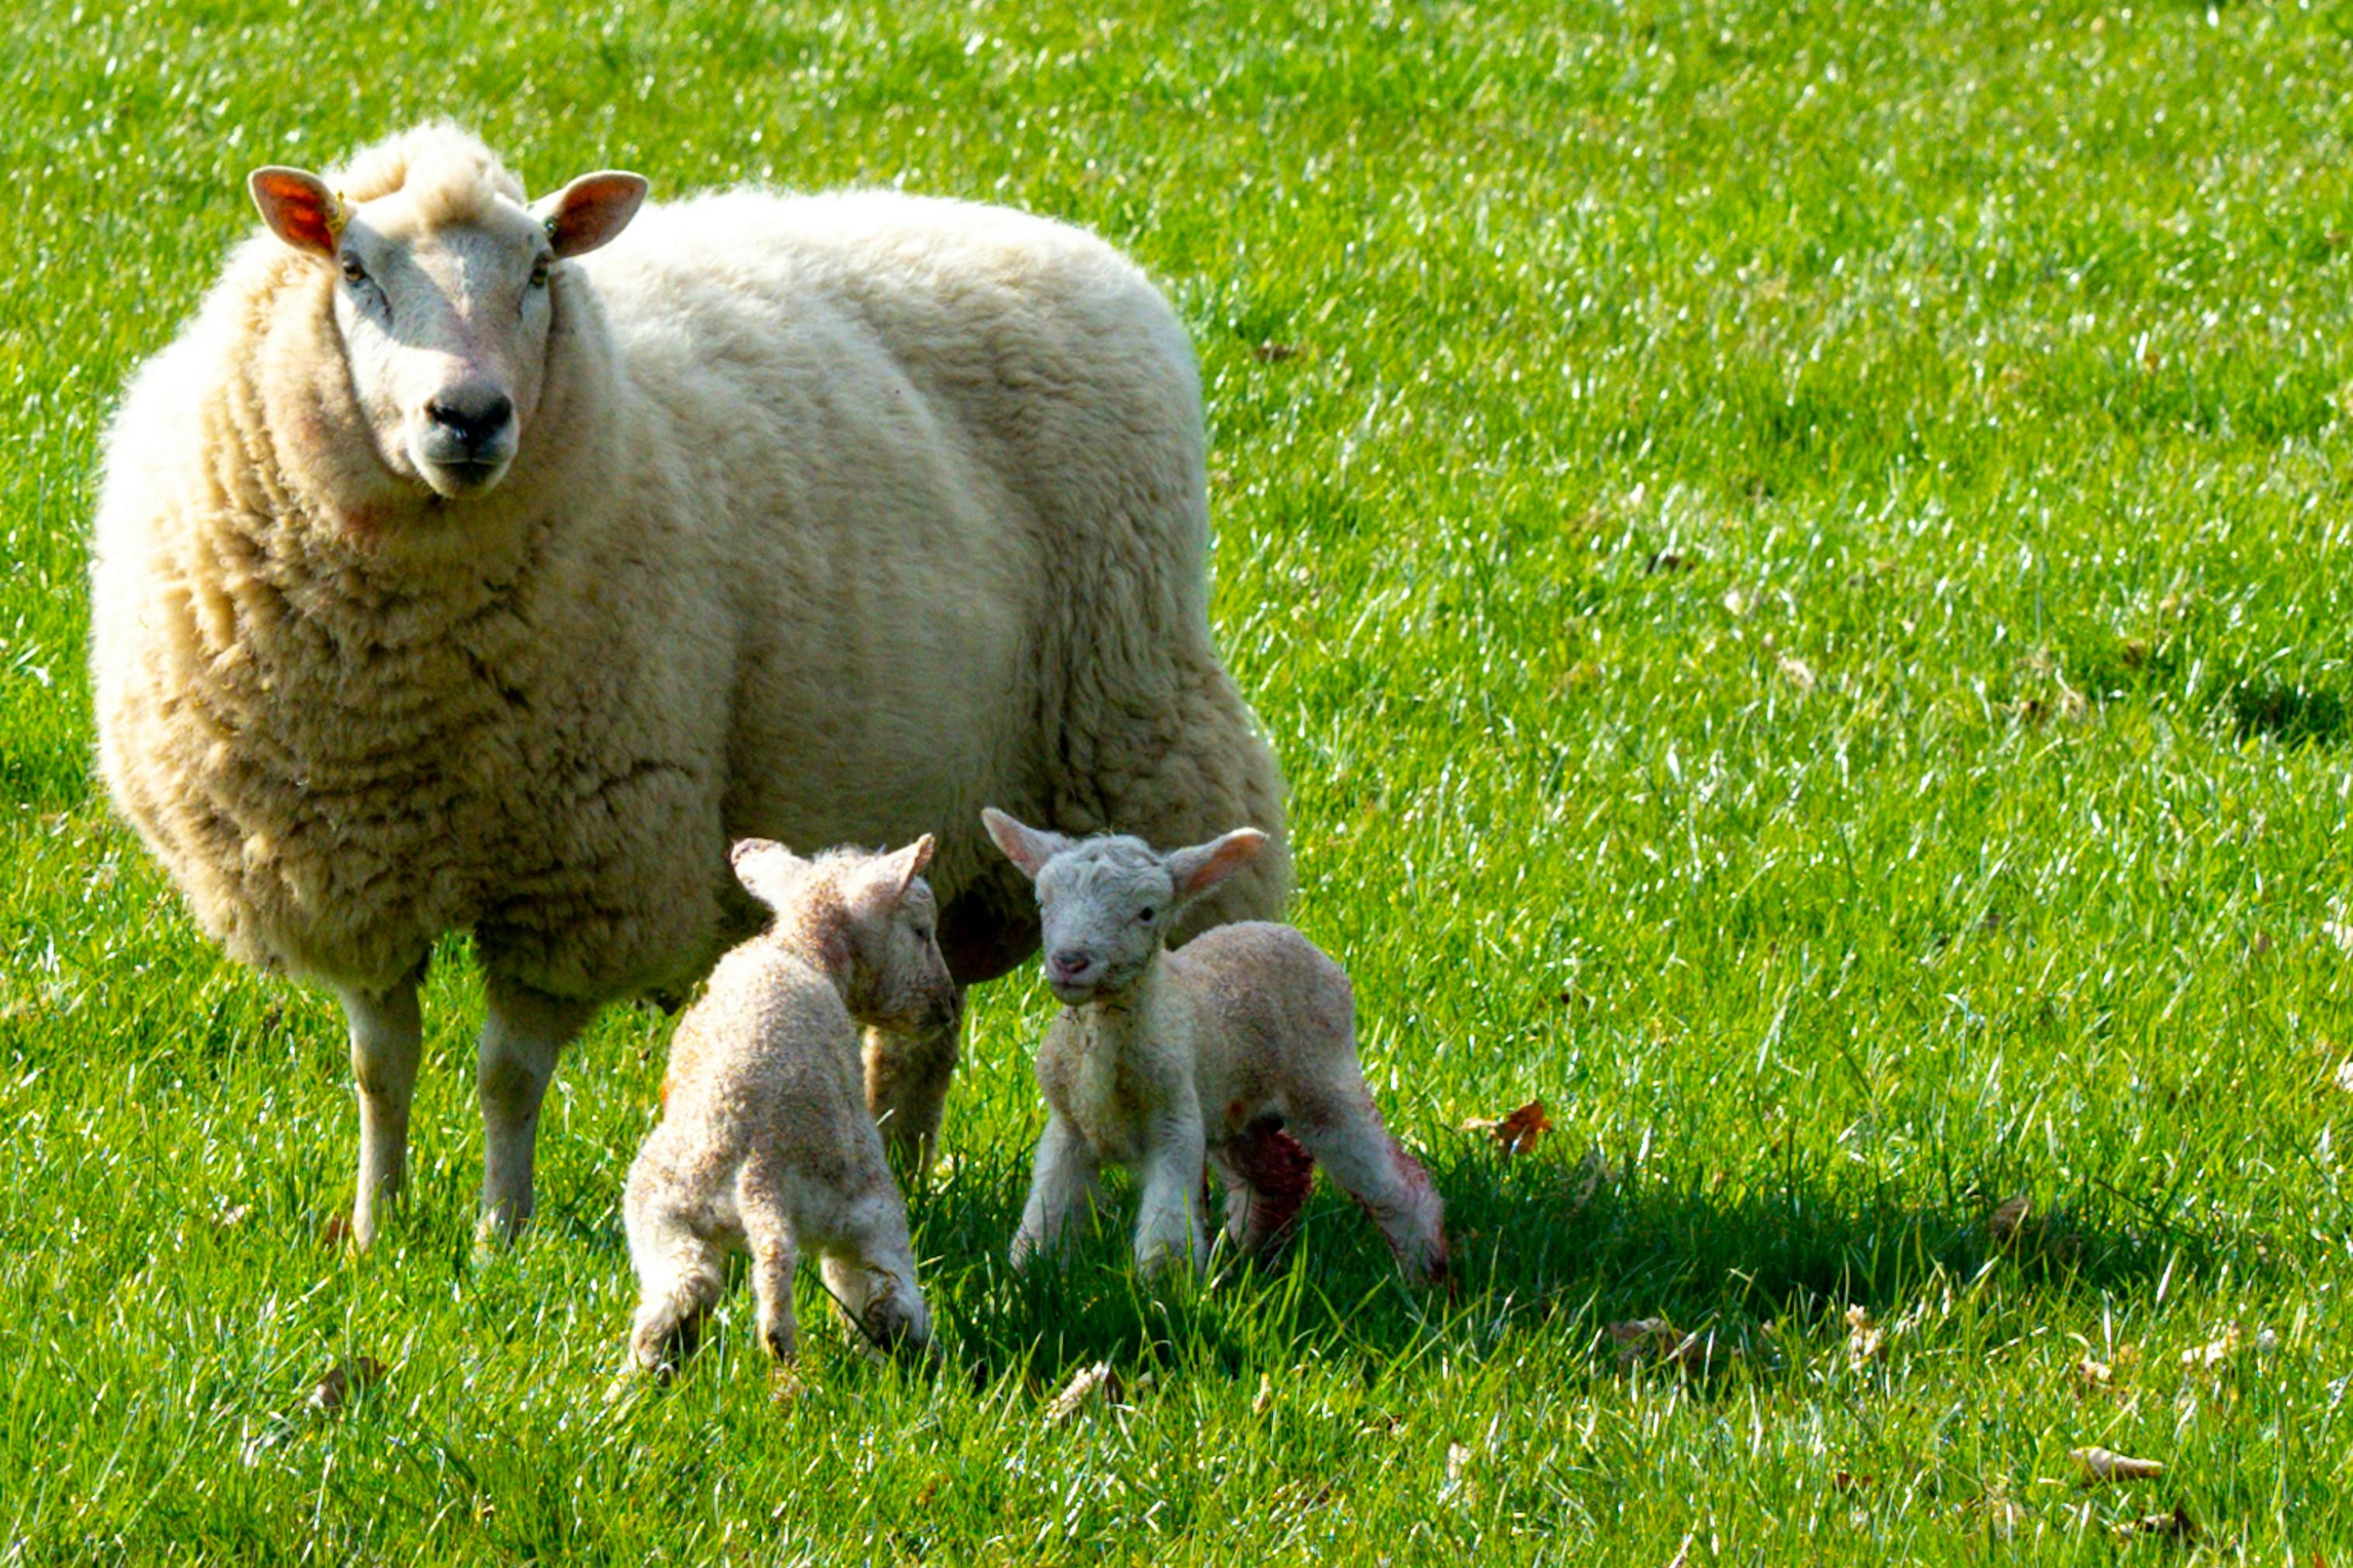sheep: (91, 121, 1289, 1276), (980, 802, 1446, 1298), (602, 833, 959, 1402)
